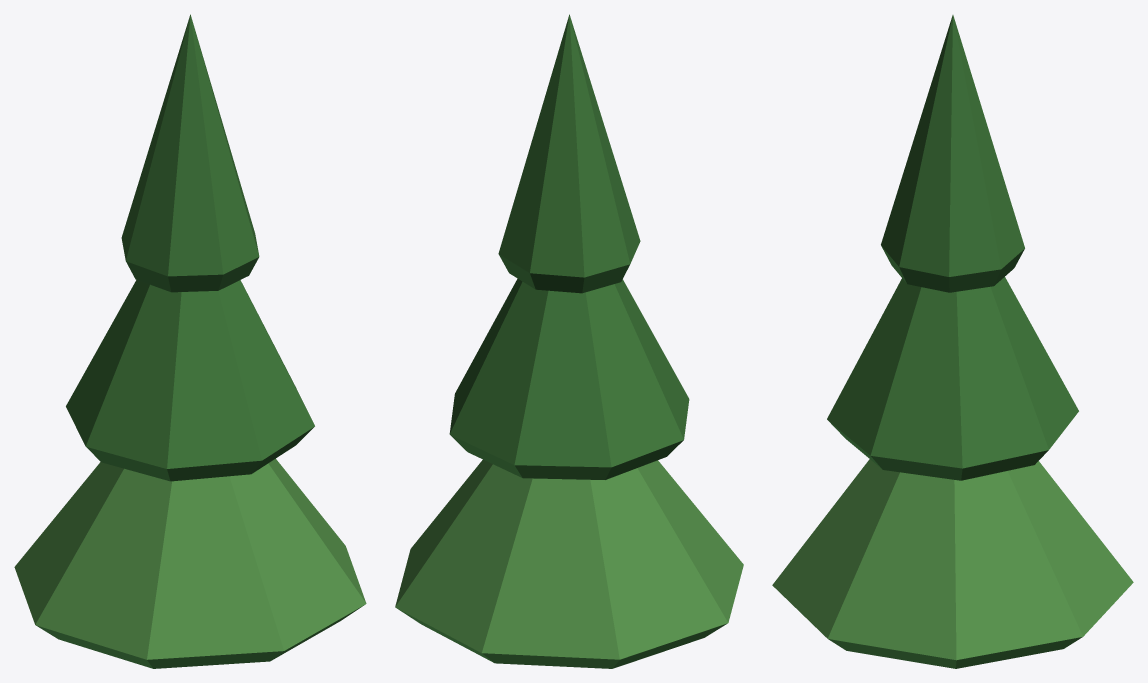
Rendered from tree_pineGroundA.glb.
3 views of the same model, side by side, from view 1: azimuth 30°, elevation 25°; view 2: azimuth 150°, elevation 25°; view 3: azimuth 270°, elevation 25° (orthographic).
Visible parts, largest first — view 1: tree_pineGroundA; view 2: tree_pineGroundA; view 3: tree_pineGroundA.
Part boxes in pixels (x1=…): tree_pineGroundA: x1=14, y1=14, x2=366, y2=668; tree_pineGroundA: x1=395, y1=14, x2=743, y2=668; tree_pineGroundA: x1=772, y1=15, x2=1133, y2=668.
Size of the model in its own units: 0.4999 by 0.9 by 0.4999.
1 material, 1 textured.
